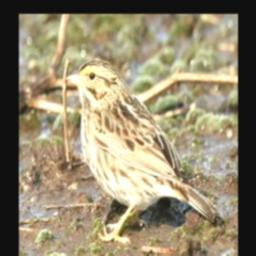Sparrow: (66, 55, 223, 246)
